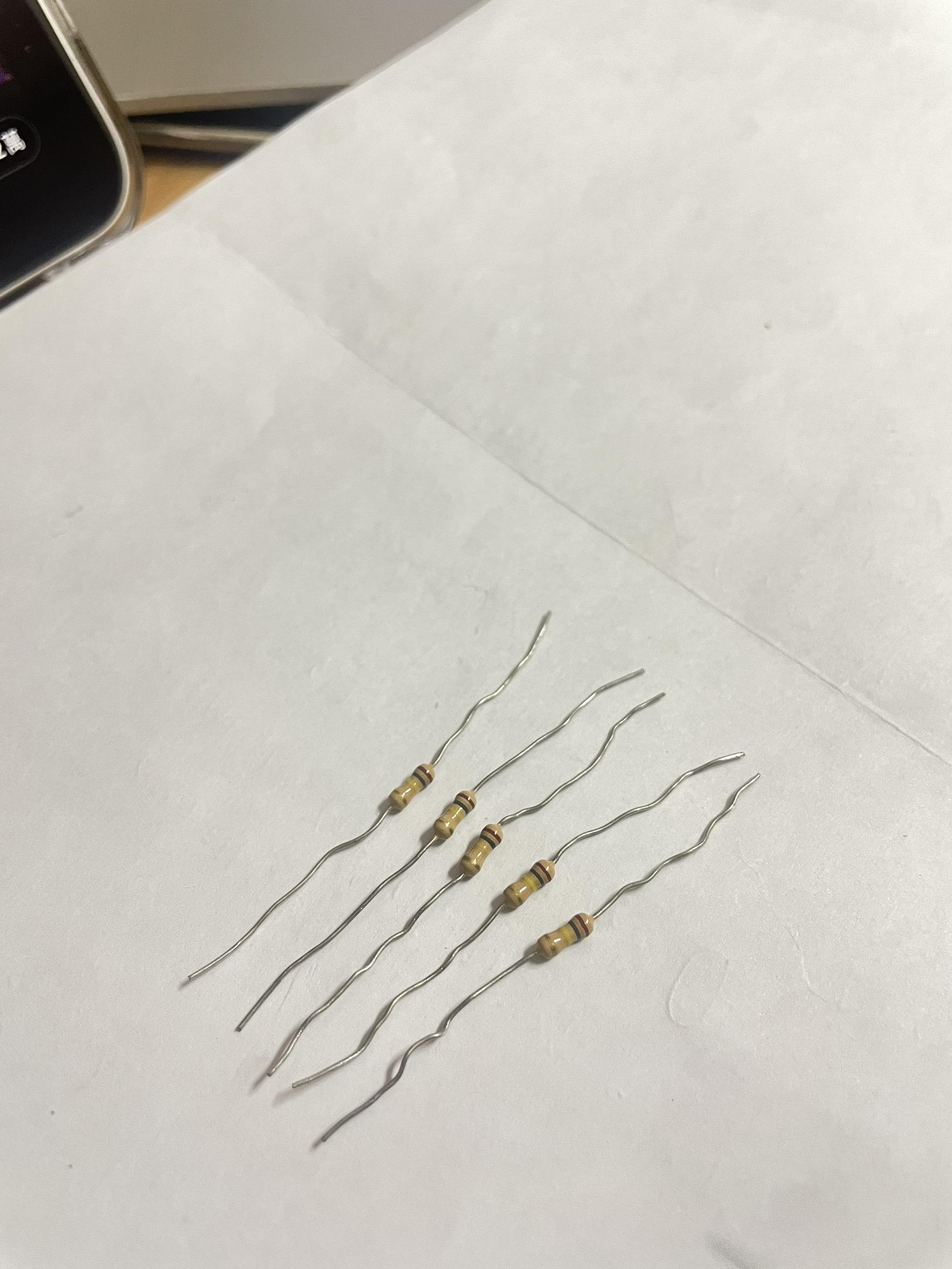resistor: (538, 909, 596, 975), (422, 787, 474, 845), (454, 820, 501, 880), (504, 859, 551, 911), (392, 764, 436, 809)
